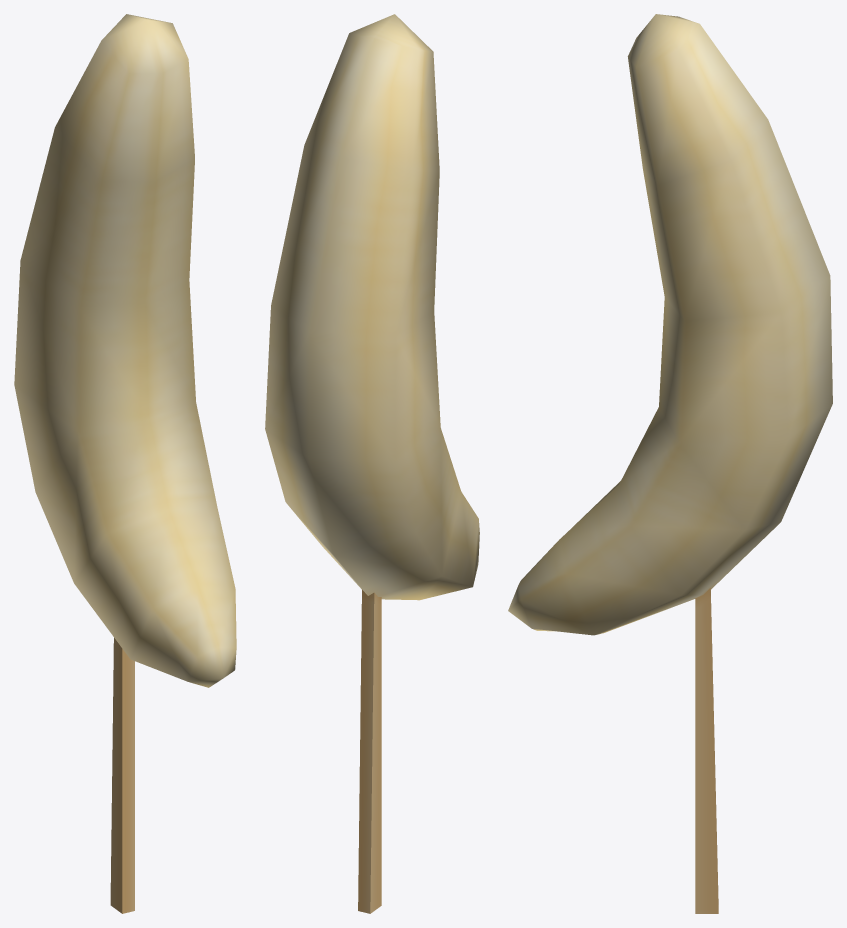
Rendered from jsf_ChocolateBanana_a.fbx.
The picture shows the model from 3 angles, left to right: view 1: azimuth 30°, elevation 25°; view 2: azimuth 150°, elevation 25°; view 3: azimuth 270°, elevation 25°; orthographic projection. The views are drawn at different scales.
Visible parts, largest first — view 1: jsf_ChocolateBanana_a; view 2: jsf_ChocolateBanana_a; view 3: jsf_ChocolateBanana_a.
Part boxes in pixels (<box>): jsf_ChocolateBanana_a: <box>14,14,236,913</box>; jsf_ChocolateBanana_a: <box>265,14,479,913</box>; jsf_ChocolateBanana_a: <box>508,14,832,913</box>.
Size of the model in its own units: 3.73 by 23.83 by 7.83.
